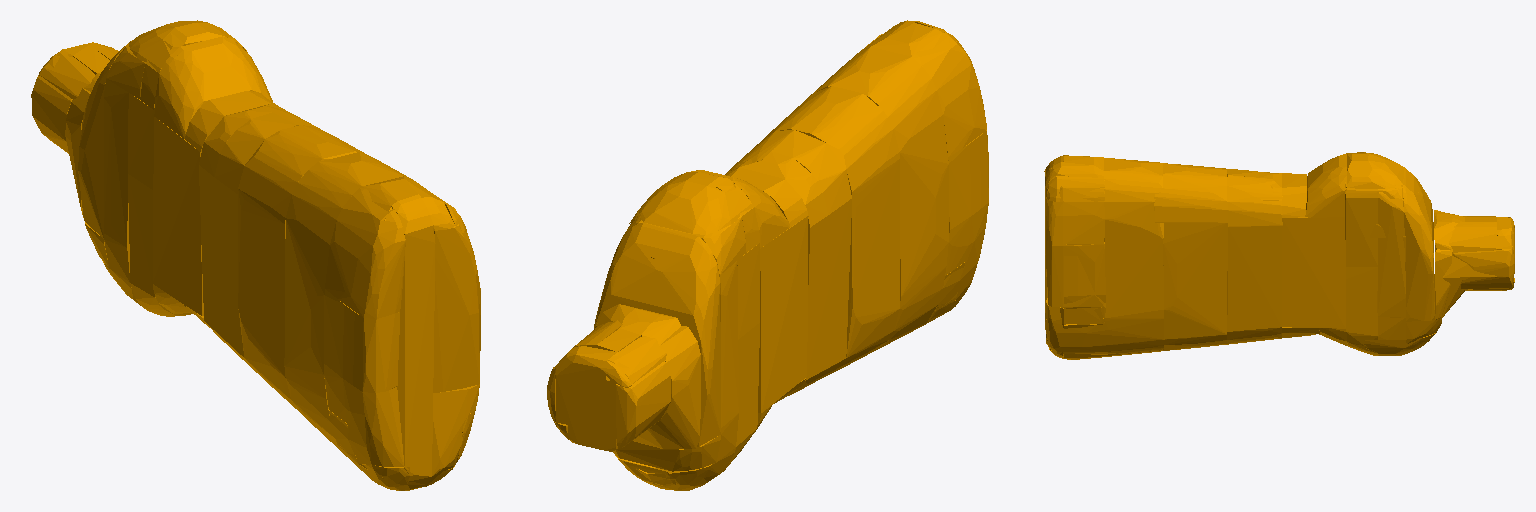
URDF robot description (bottle-eres):
<?xml version="1.0" ?>
<robot name="bottle-eres">
  <link name="baseLink">
    <contact>
      <lateral_friction value="1.0"/>
      <inertia_scaling value="3.0"/>
    </contact>
    <inertial>
      <origin rpy="0 0 0" xyz="0.000 0.000 0.000"/>
       <mass value=".1"/>
       <inertia ixx="1" ixy="0.0" ixz="0.0" iyy="1" iyz="0.0" izz="1"/>
    </inertial>
    <visual>
      <origin rpy="0 0 0" xyz="0 0 0"/>
      <geometry>
        <mesh filename="bottle/bottle-eres_inox.obj" scale="1.0 1.0 1.0"/>
      </geometry>
    </visual>
    <collision>
      <origin rpy="0 0 0" xyz="0 0 0"/>
      <geometry>
        <mesh filename="../collision/bottle/bottle-eres_inox.obj" scale="1.0 1.0 1.0"/>
      </geometry>
    </collision>
  </link>
</robot>
        

--- Facts derived from the render (not from the file) ---
The picture shows the robot from 3 angles, left to right: view 1: azimuth 30°, elevation 25°; view 2: azimuth 150°, elevation 25°; view 3: azimuth 270°, elevation 25°; orthographic projection.
Robot: bottle-eres — 1 links, 0 joints (none); root link baseLink; default pose: all joints at 0.
Links seen in each view (by area): view 1: baseLink; view 2: baseLink; view 3: baseLink.
Boxes of the visible links, <box> form: baseLink: <box>31,20,480,490</box>; baseLink: <box>547,20,988,490</box>; baseLink: <box>1044,152,1514,359</box>.
Bounding box of the posed robot: 0.0343 × 0.1731 × 0.0803 m (x, y, z).
1 mesh visuals loaded from 1 distinct referenced files (1 OBJ).